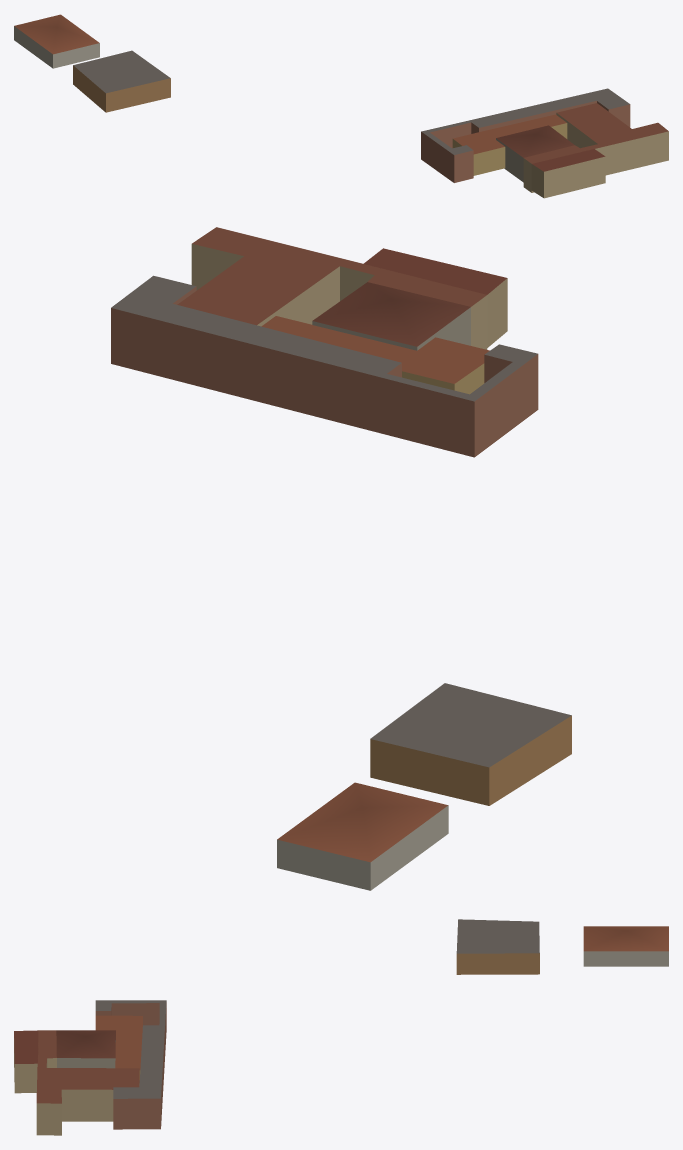
Rendered from SM_Fondale_Citta_Colle_02_LOD1.fbx.
3 renders of one model, top to bottom at view 1: azimuth 30°, elevation 25°; view 2: azimuth 150°, elevation 25°; view 3: azimuth 270°, elevation 25°, orthographic. The views are drawn at different scales.
Parts seen in each view (by area): view 1: SM_Fondale_Citta_Colle_02_LOD1; view 2: SM_Fondale_Citta_Colle_02_LOD1; view 3: SM_Fondale_Citta_Colle_02_LOD1.
Boxes of the visible parts, <box> form: SM_Fondale_Citta_Colle_02_LOD1: <box>14,14,668,198</box>; SM_Fondale_Citta_Colle_02_LOD1: <box>111,227,571,890</box>; SM_Fondale_Citta_Colle_02_LOD1: <box>14,919,668,1135</box>.
Bounding box in the file's own units: 21374 × 29846 × 2163.
